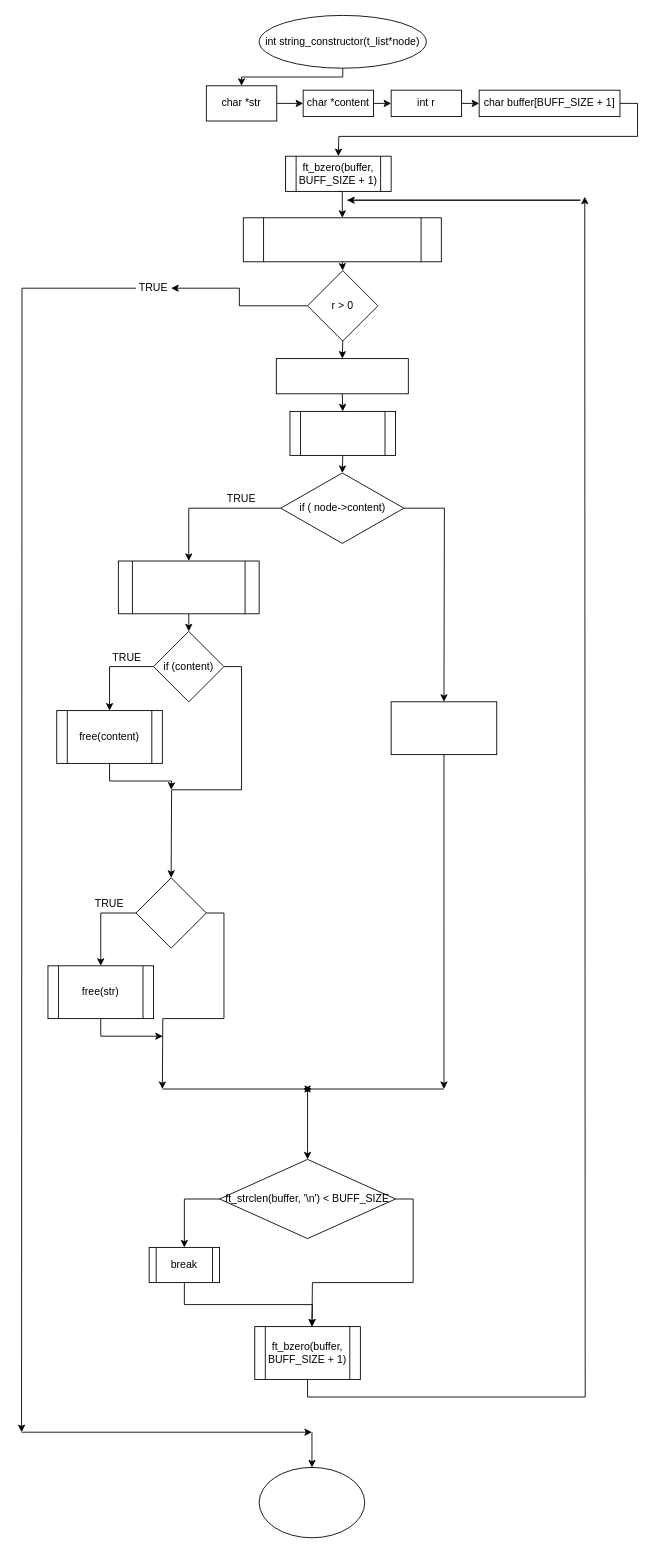
Image size: 660x1553. Some labels were removed from this diagram. Each missing label, with the centre of its shape:
"content = node->content" belongs at point 341,376.
"if(str)" belongs at point 170,912.
"node->content = ft_strjoin(content, str)" belongs at point 188,587.
"node->content = str" belongs at point 443,728.
"r = read((int)node->content_size, buffer, BUFFER_SIZE)" belongs at point 341,239.
"return ( r )" belongs at point 311,1502.
"str = ft_strdup(buffer)" belongs at point 342,433.
